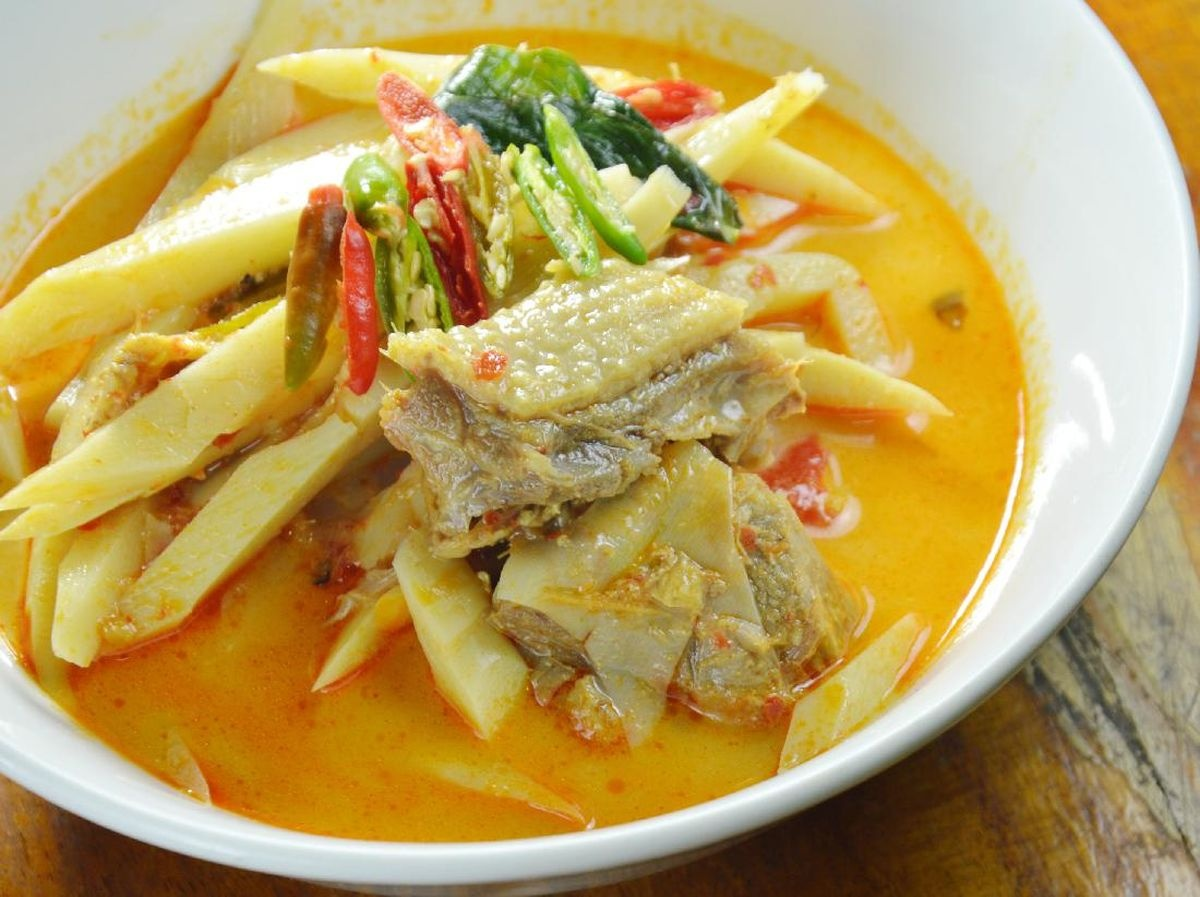gulai_ayam: (11, 38, 1080, 841)
